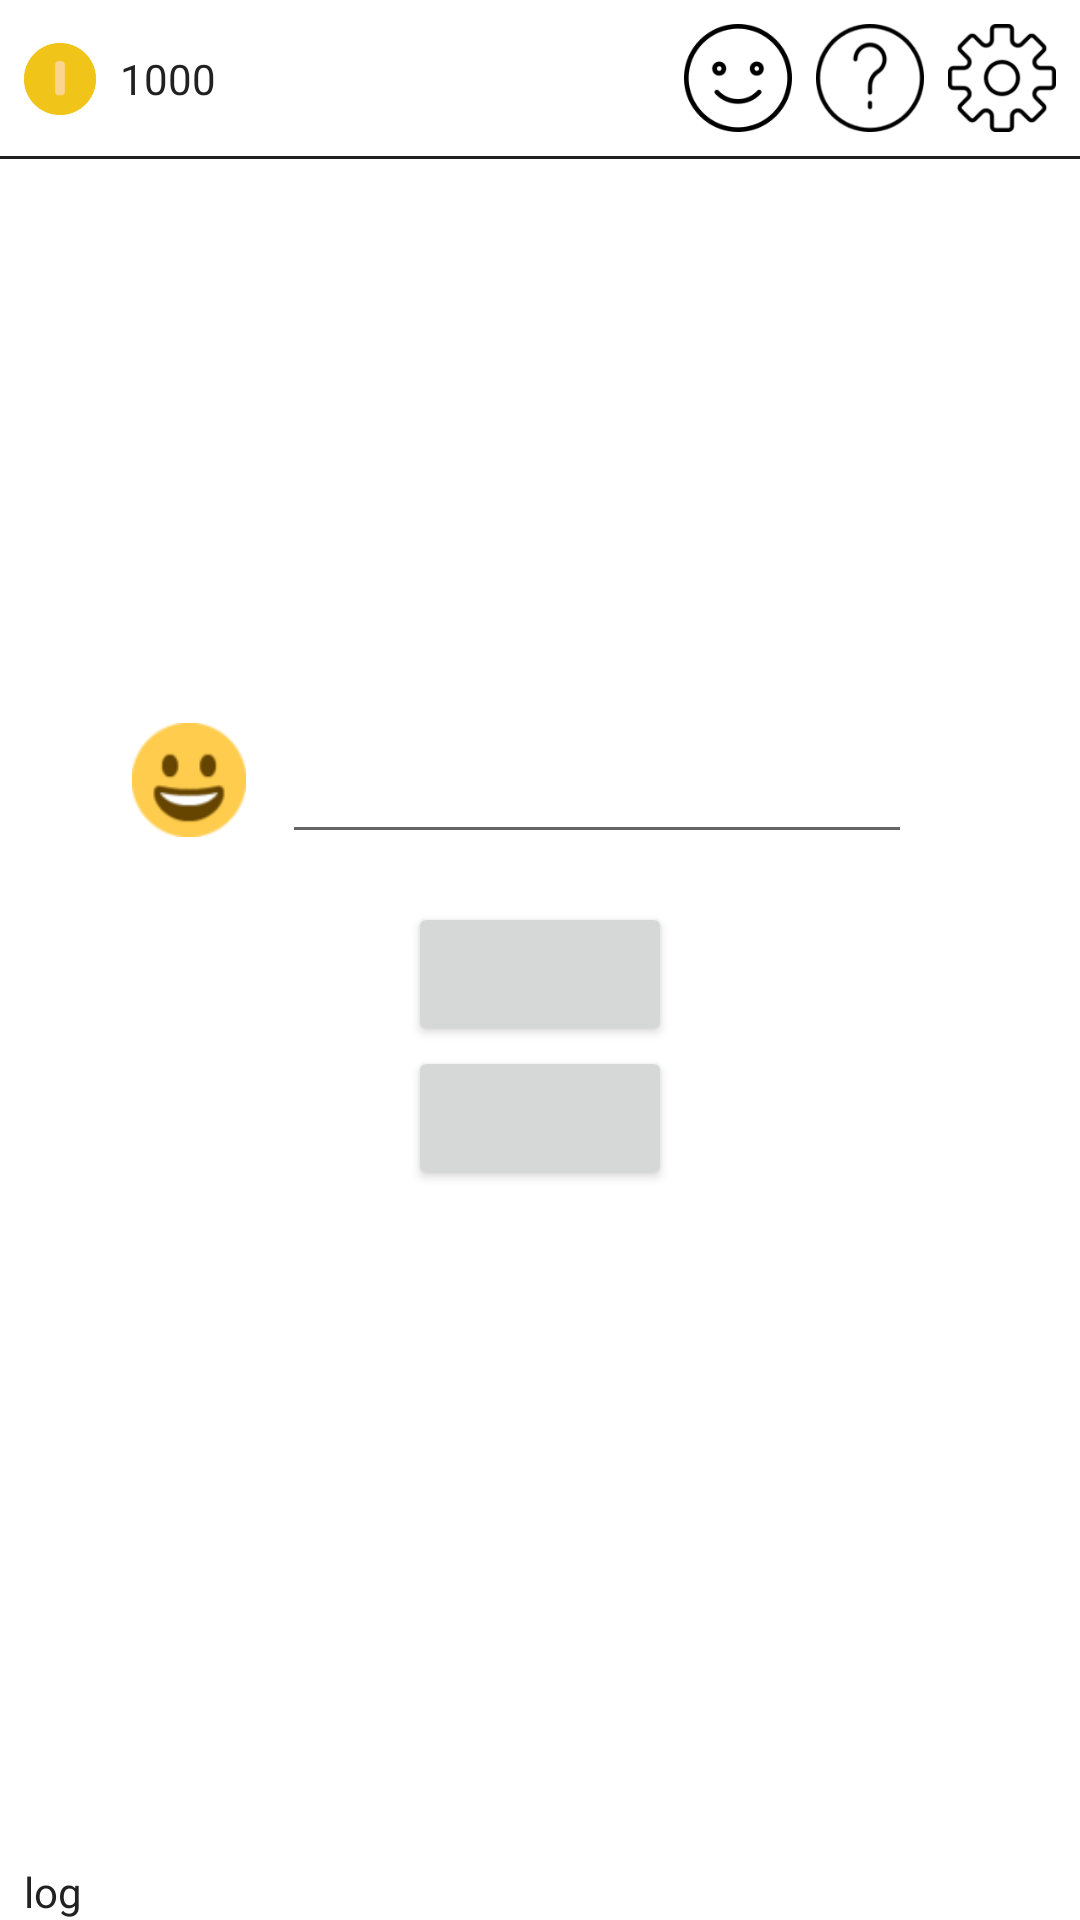

Where to tap for icons on this 1080px×1920px app screen, as (x,y):
ui coin: (60,79)
ui how: (870,78)
ui settings: (1002,78)
